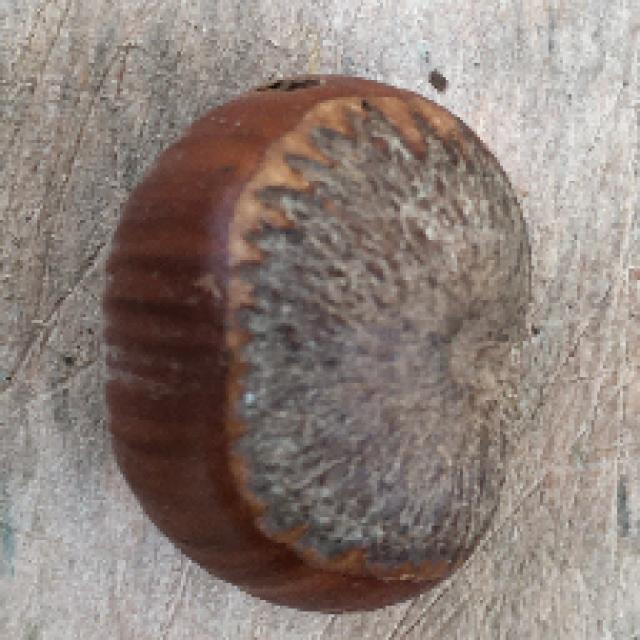damagedHazelnut: (105, 69, 546, 626)
